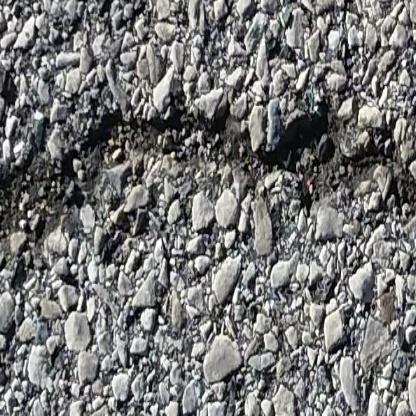Cracks: (0, 95, 416, 274)
